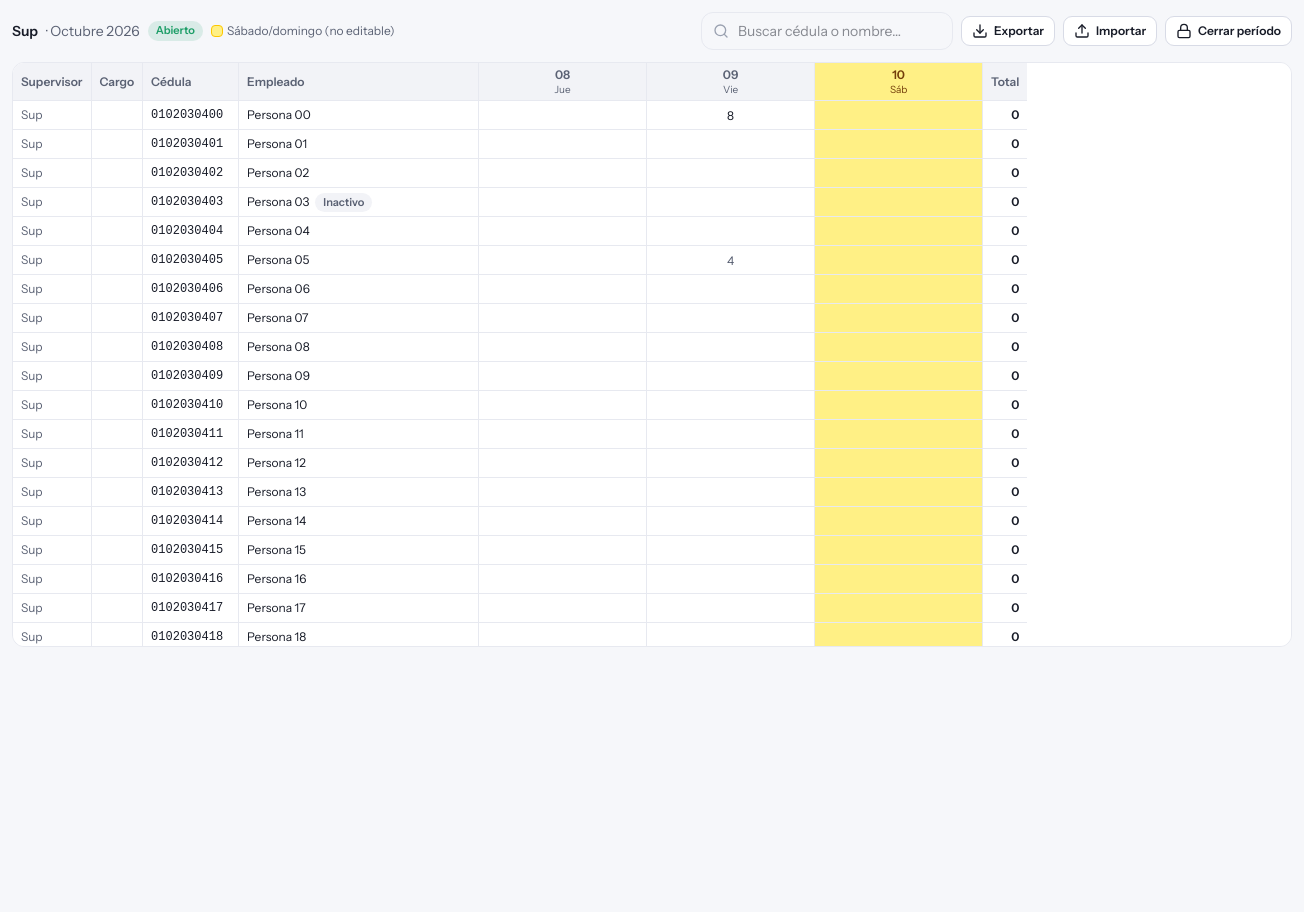
Test case: Días laborados — arrastre tipo Excel › si el servidor rechaza celdas, quedan marcadas y no se muestran como guardadas
This screenshot has width=1304, height=912.
Focus the field named "Persona 00 09/10/2026" at [731, 115], box [647,101,814,129]
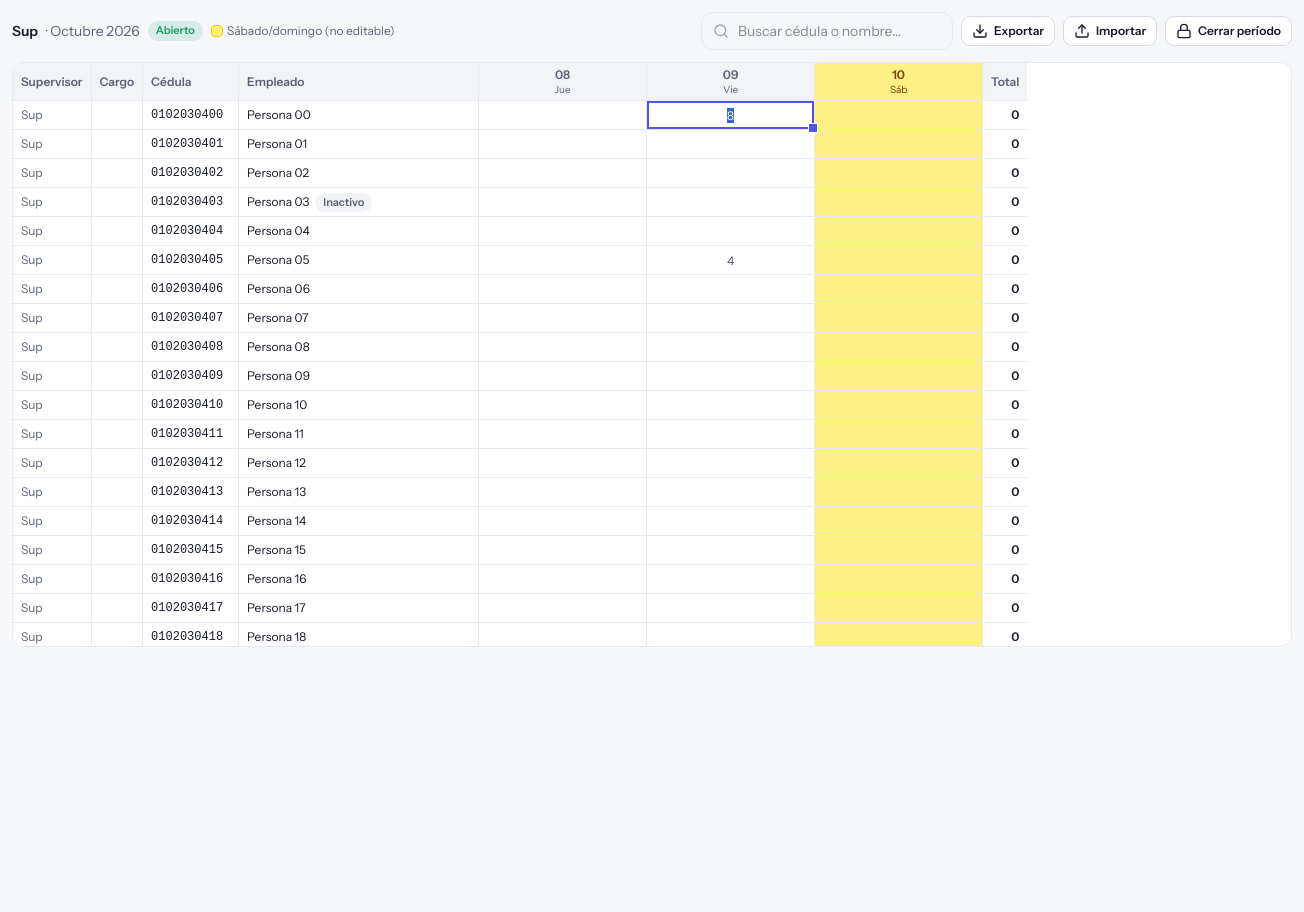
Press the mouse on the button named "Arrastre para copiar 8" at [813, 128], box [808,123,818,133]
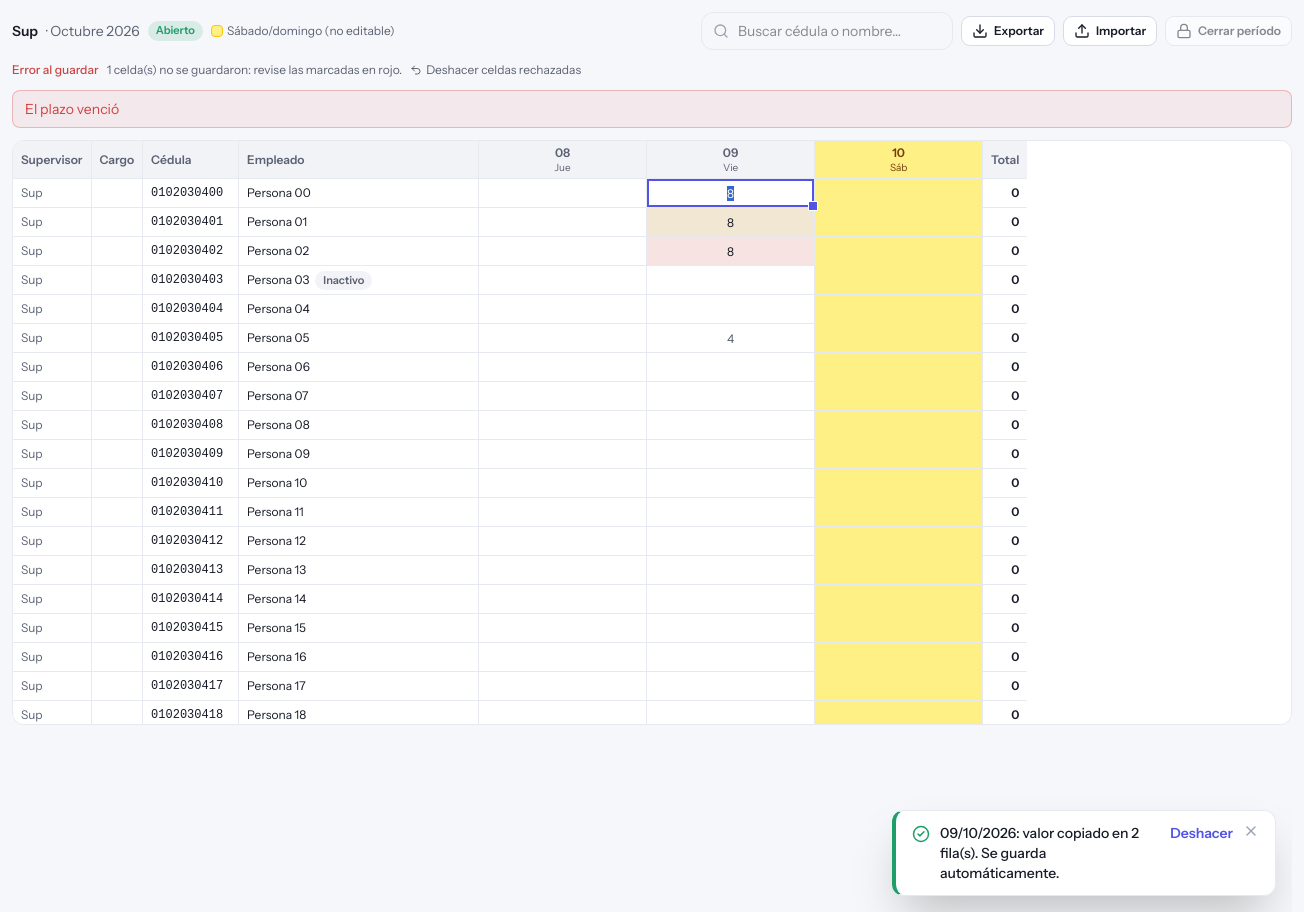
Expected: the text "Error al guardar" is shown, [12,62,99,78]
